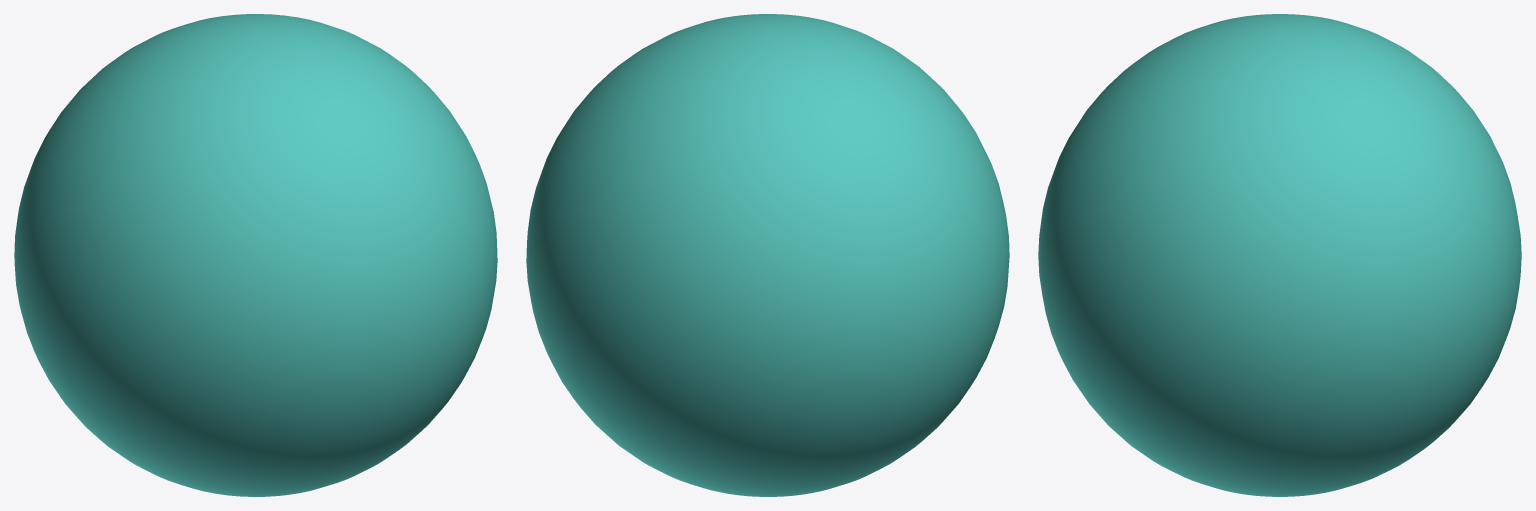
The model's file is atoms oxygen.fbx.
The picture shows the model from 3 angles, left to right: view 1: azimuth 30°, elevation 25°; view 2: azimuth 150°, elevation 25°; view 3: azimuth 270°, elevation 25°; orthographic projection.
Parts seen in each view (by area): view 1: Body1; view 2: Body1; view 3: Body1.
Boxes of the visible parts, <box> form: Body1: <box>14,14,497,496</box>; Body1: <box>526,14,1009,496</box>; Body1: <box>1038,14,1521,496</box>.
Bounding box in the file's own units: 0.1 × 0.1 × 0.1.
